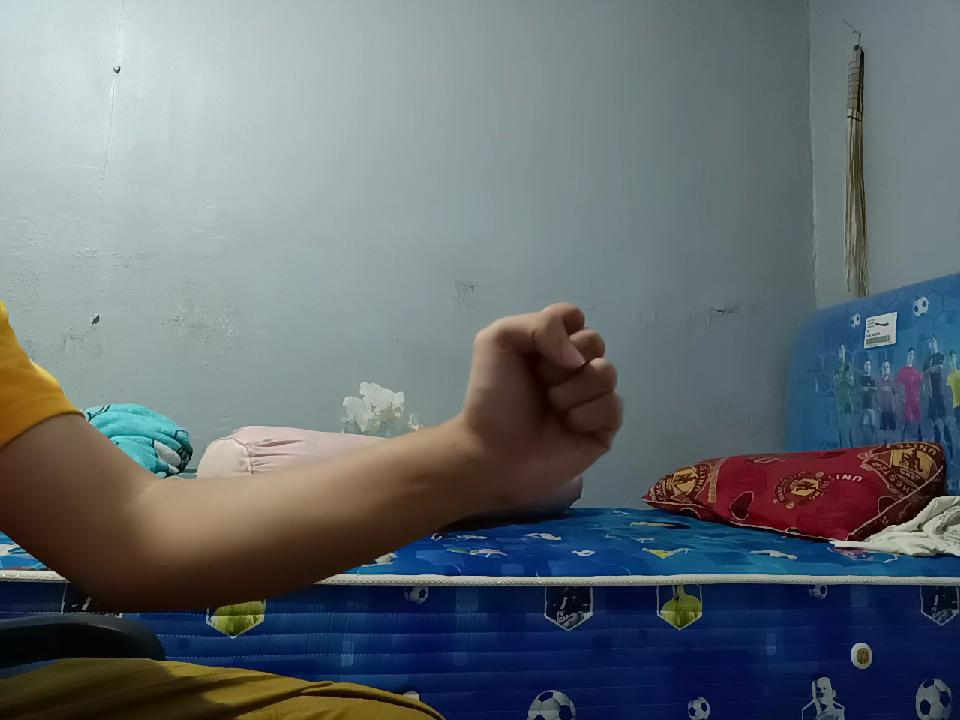rock: (456, 286, 634, 508)
